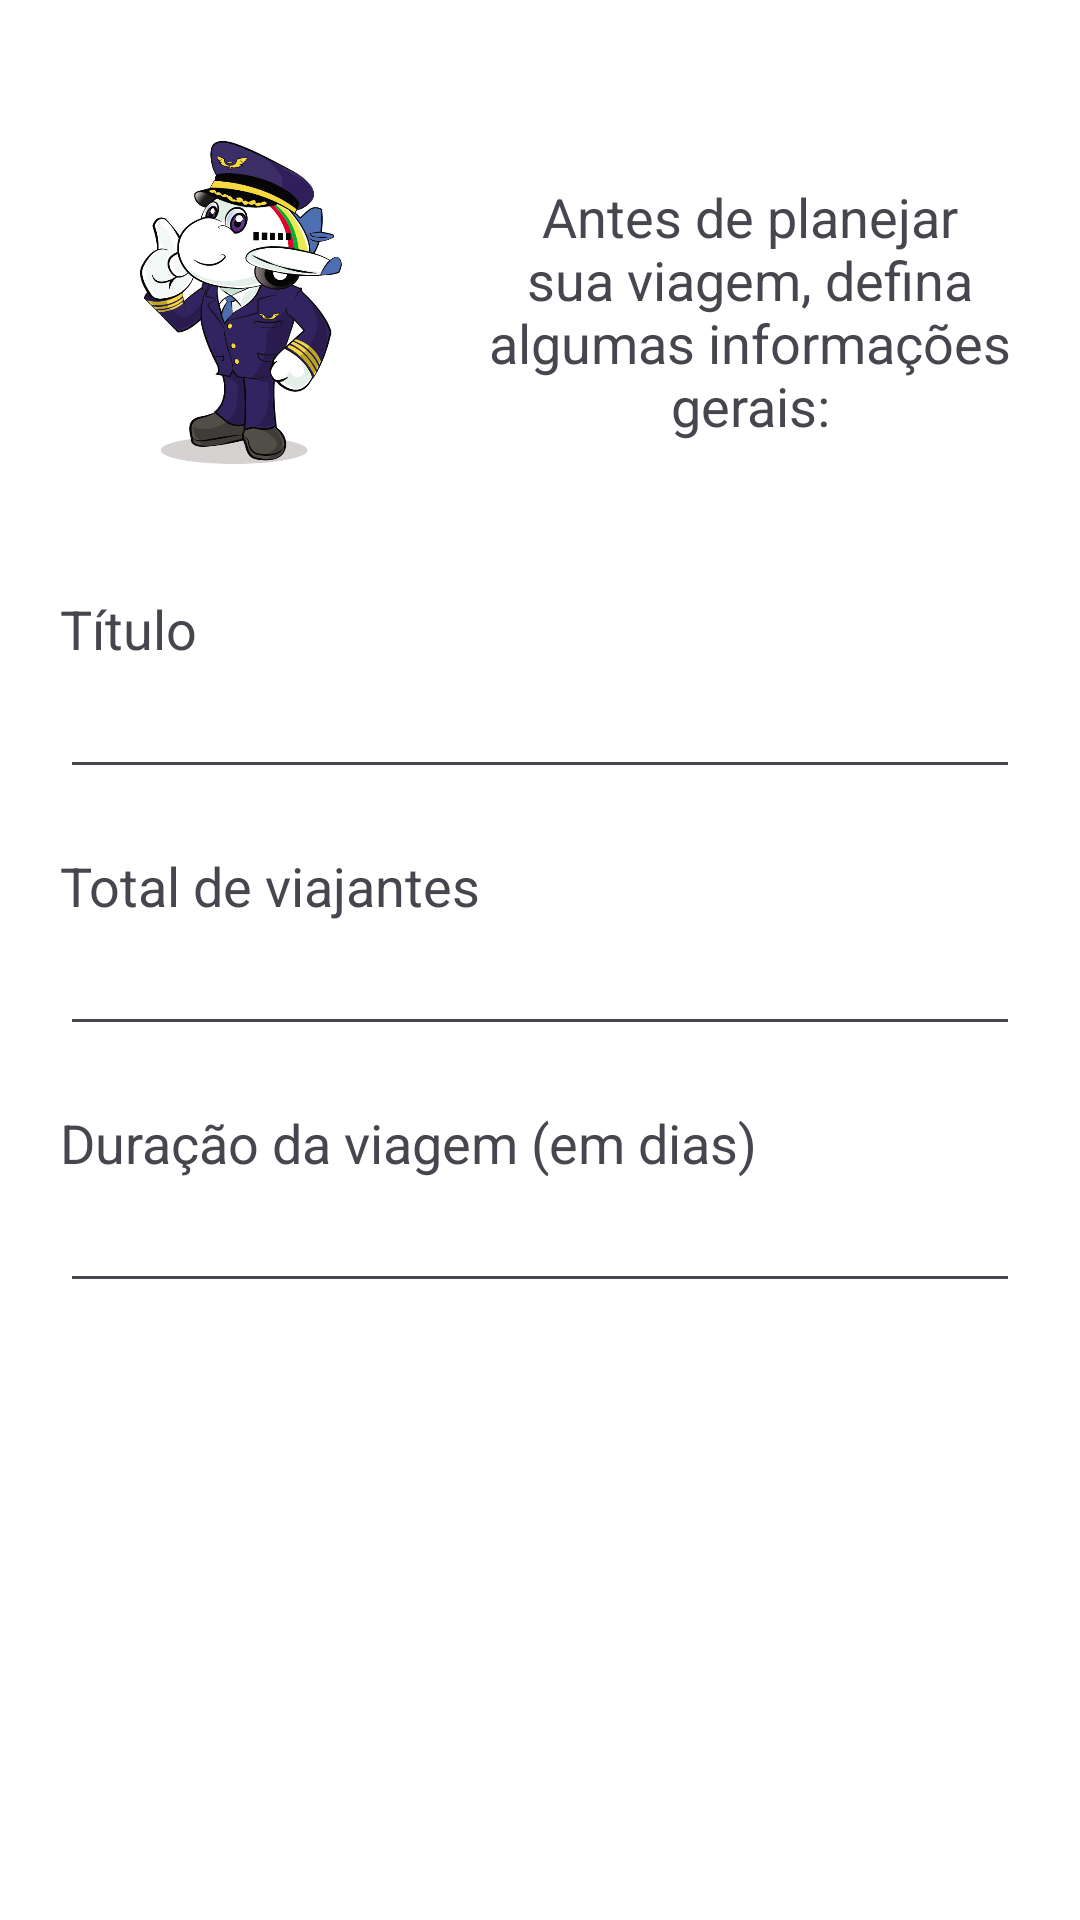

Named icons in this screenshot (1080*1920) and their bounding boxes, (x1, y1, x2, y2):
aviao: (140, 141, 342, 464)
